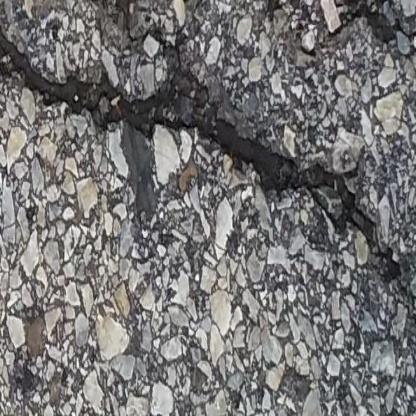Cracks: (0, 70, 416, 281), (0, 0, 416, 205)
